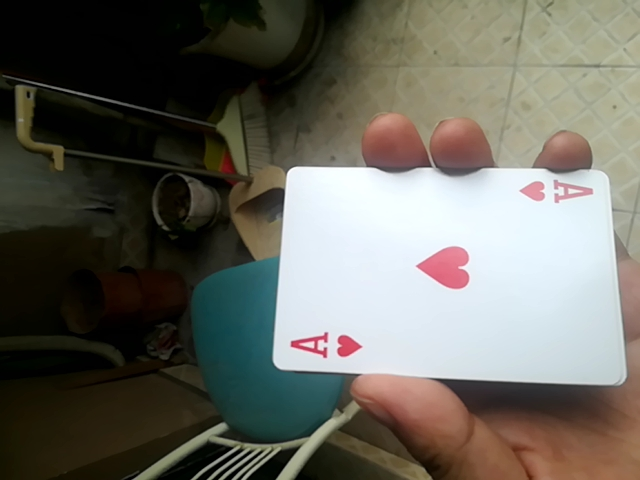hx a: (267, 163, 633, 379)
